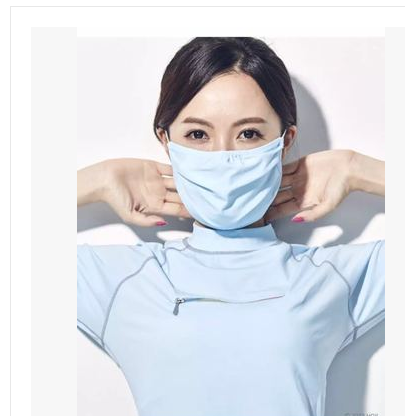face_mask: (168, 70, 279, 221)
